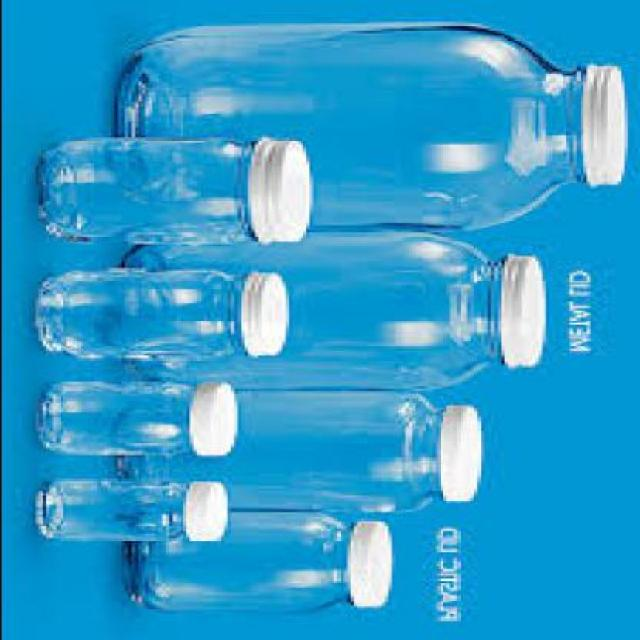GLASS: (116, 28, 589, 232), (120, 232, 503, 394), (109, 388, 445, 514), (126, 512, 352, 616), (38, 142, 260, 247), (41, 272, 247, 360), (40, 384, 192, 458), (41, 482, 185, 543)
METAL: (247, 139, 311, 247), (582, 69, 630, 189), (439, 406, 486, 505), (504, 258, 544, 369), (243, 275, 291, 362), (352, 523, 397, 609), (192, 386, 239, 460), (185, 484, 232, 545)
